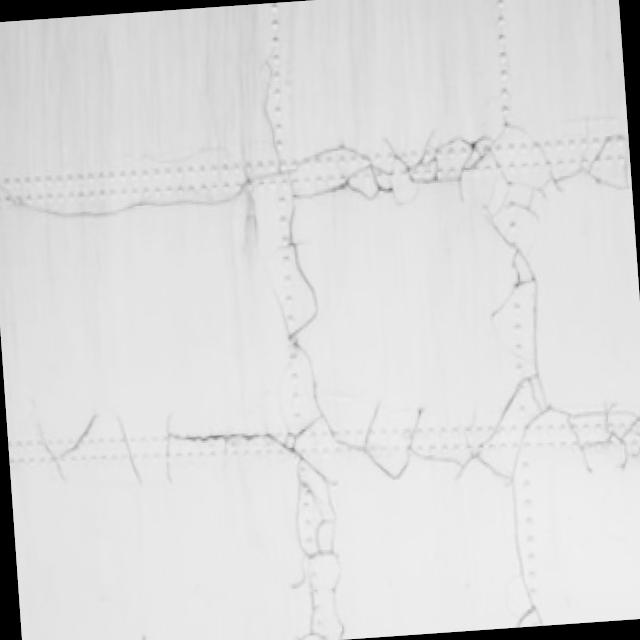crack: (31, 365, 640, 512), (0, 121, 631, 233), (246, 48, 346, 640), (474, 128, 566, 626)
